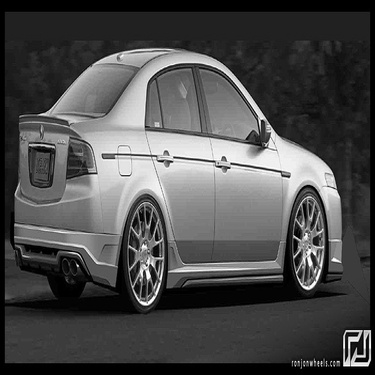car: (21, 56, 354, 297)
